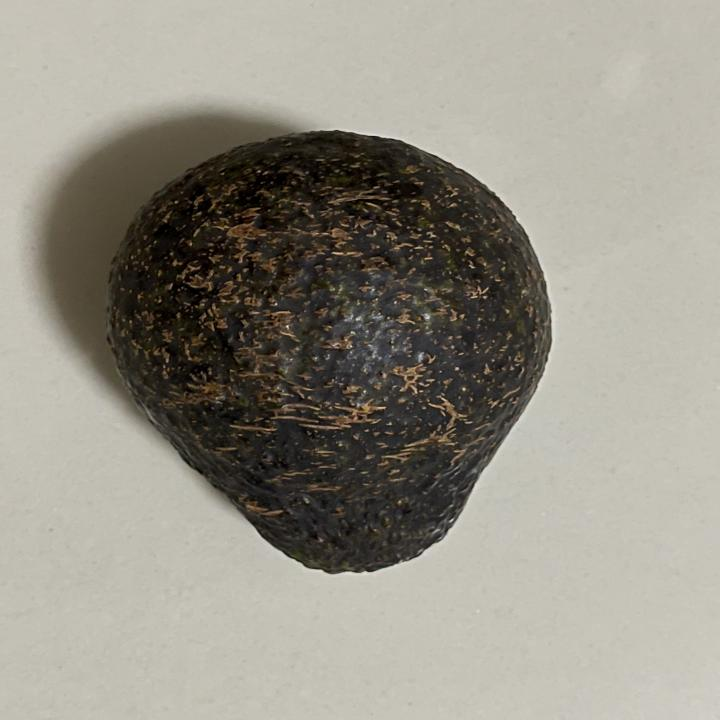Level2: (95, 125, 563, 584)
